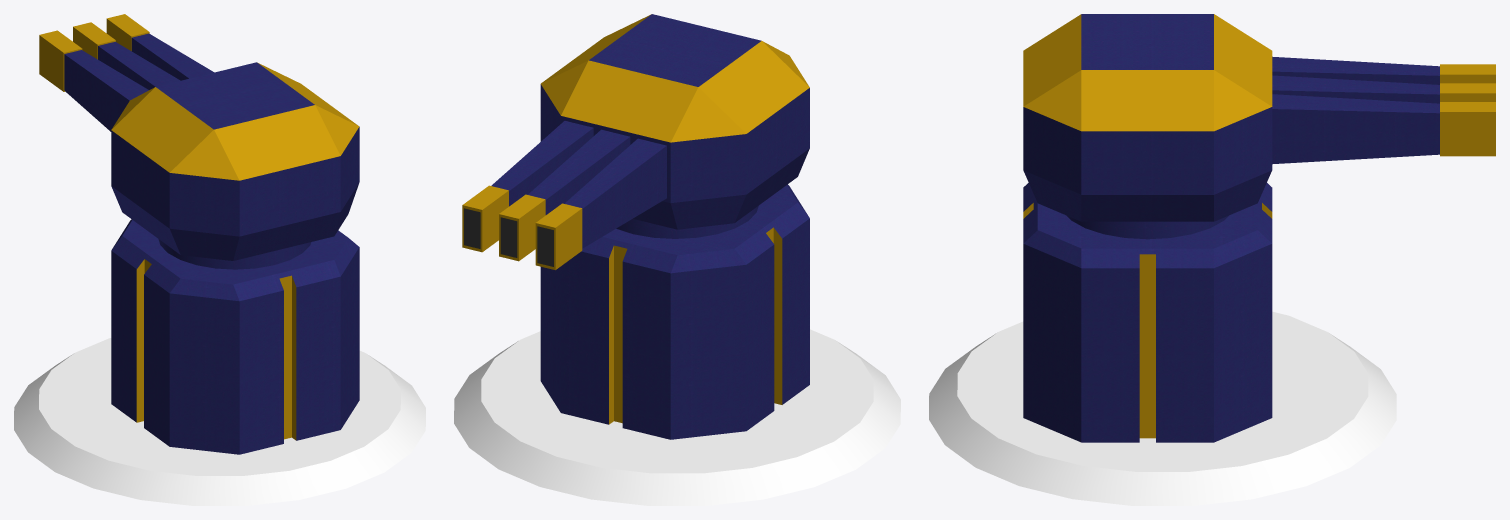
The model's file is tripleGun1.obj.
3 views of the same model, side by side, from view 1: azimuth 30°, elevation 25°; view 2: azimuth 150°, elevation 25°; view 3: azimuth 270°, elevation 25° (orthographic). The views are drawn at different scales.
Visible parts, largest first — view 1: Group1 Mesh1 Model polySurface1, Group1 Mesh2 Model polySurface1; view 2: Group1 Mesh1 Model polySurface1, Group1 Mesh2 Model polySurface1; view 3: Group1 Mesh1 Model polySurface1, Group1 Mesh2 Model polySurface1.
Boxes of the visible parts, bbox=[...] form: Group1 Mesh1 Model polySurface1: bbox=[39, 14, 359, 454]; Group1 Mesh2 Model polySurface1: bbox=[14, 338, 425, 505]; Group1 Mesh1 Model polySurface1: bbox=[462, 14, 809, 439]; Group1 Mesh2 Model polySurface1: bbox=[454, 329, 900, 505]; Group1 Mesh1 Model polySurface1: bbox=[1023, 14, 1495, 442]; Group1 Mesh2 Model polySurface1: bbox=[929, 311, 1396, 505].
Size of the model in its own units: 21.36 by 18.65 by 25.89.
4 materials, 1 textured.
